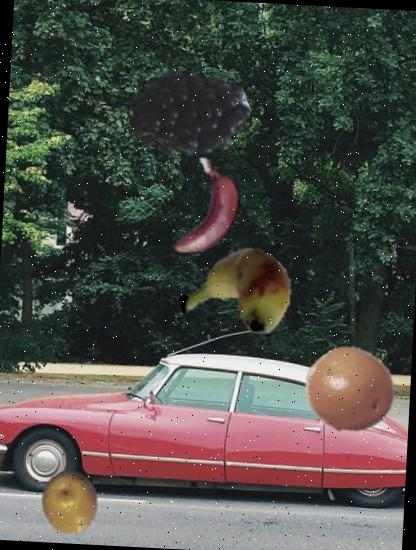Banana: (184, 242, 298, 356), (156, 160, 261, 264)
Kumquats: (38, 468, 104, 536)
Mulberry: (127, 52, 252, 177)
Tangelo: (301, 341, 398, 437)
